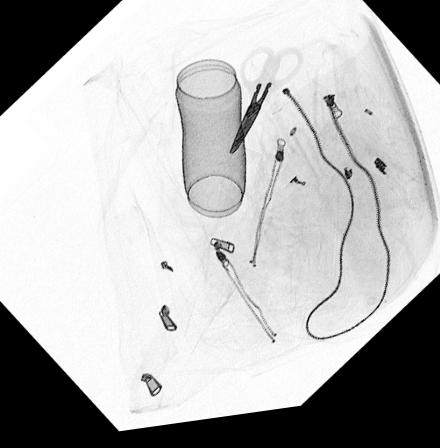Scissors: (225, 50, 304, 162)
